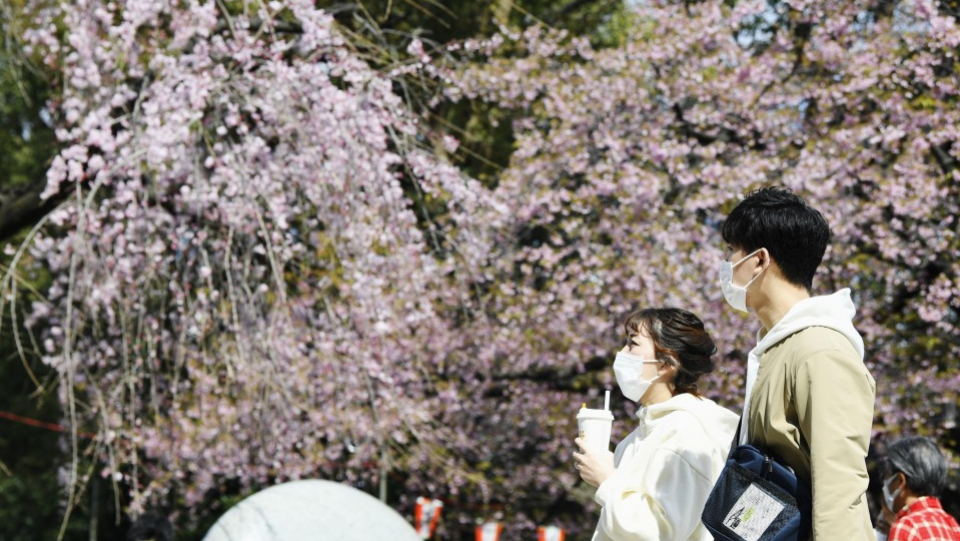Person: (720, 183, 879, 541), (571, 308, 727, 541), (880, 436, 960, 541)
